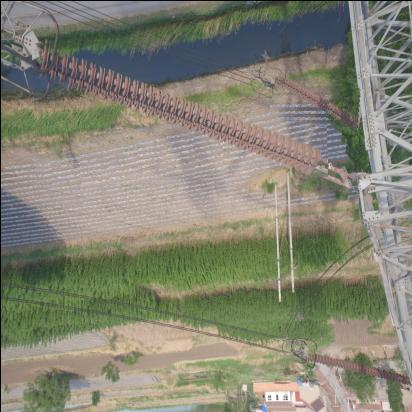insulator: (33, 35, 327, 184), (307, 344, 412, 395), (271, 77, 365, 130)
